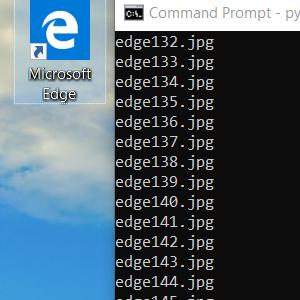edge: (31, 1, 89, 60)
